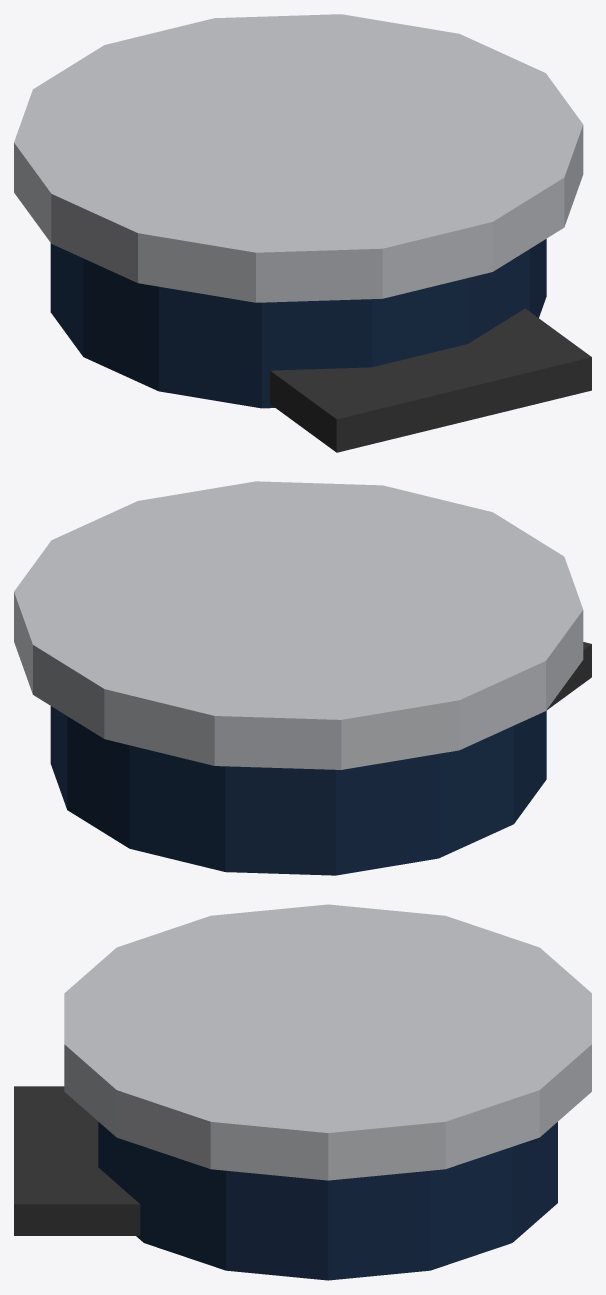
The model's file is acc_cap.glb.
3 views of the same model, one above another, from view 1: azimuth 30°, elevation 25°; view 2: azimuth 150°, elevation 25°; view 3: azimuth 270°, elevation 25° (orthographic). The views are drawn at different scales.
Visible parts, largest first — view 1: acc_cap; view 2: acc_cap; view 3: acc_cap.
Boxes of the visible parts, x1,y1,x2,y2 form: acc_cap: (14, 14, 591, 452); acc_cap: (14, 481, 591, 875); acc_cap: (14, 904, 591, 1280).
Size of the model in its own units: 0.62 by 0.205 by 0.6622.
